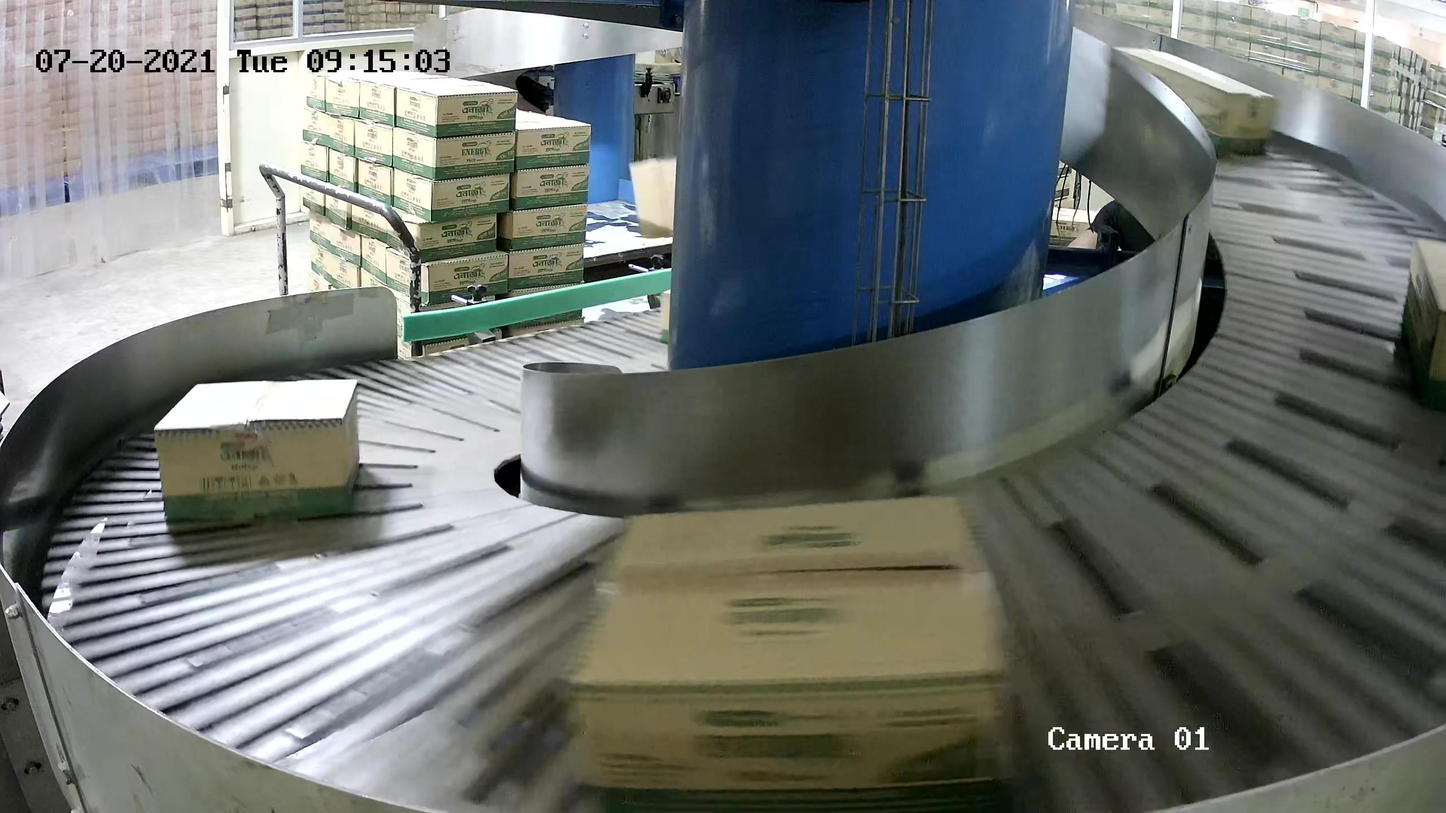Box: (561, 491, 1024, 813), (152, 377, 361, 520), (1109, 45, 1276, 157), (1401, 236, 1446, 408)
